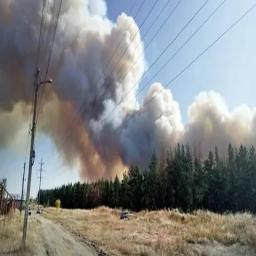Heavy smoke: (0, 0, 255, 191)
